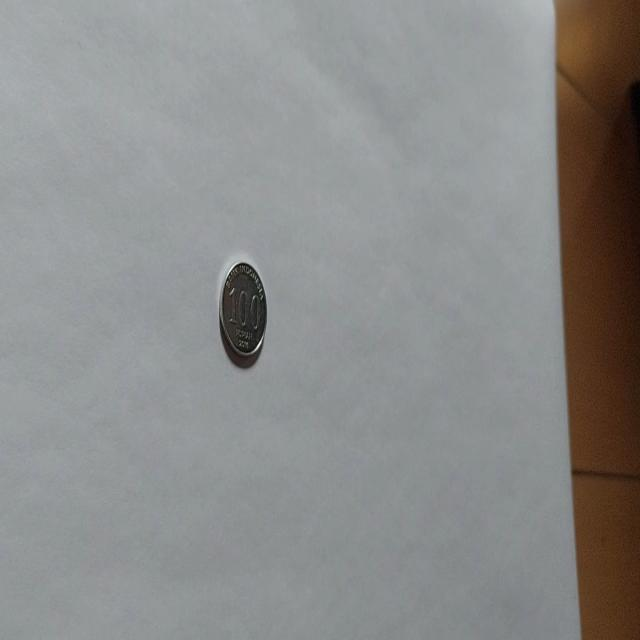seratus rupiah: (218, 258, 268, 366)
